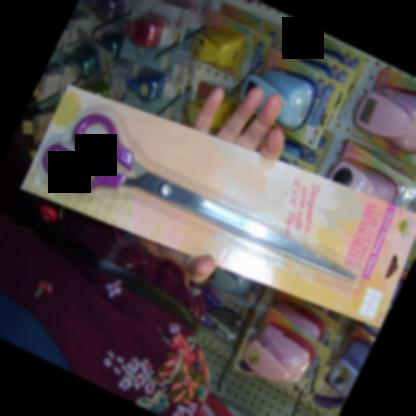handbag: (0, 126, 200, 337)
